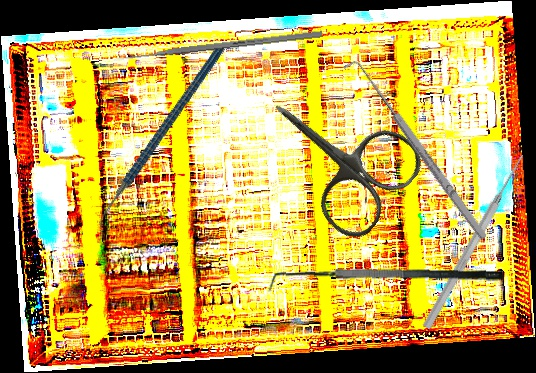Chopper: (48, 44, 273, 241)
Hook Surgical: (343, 54, 490, 247)
Iris Scissors: (240, 61, 431, 247)
Pusher: (421, 152, 528, 331), (113, 30, 323, 63)
Spatula Surgical: (267, 261, 505, 301)
